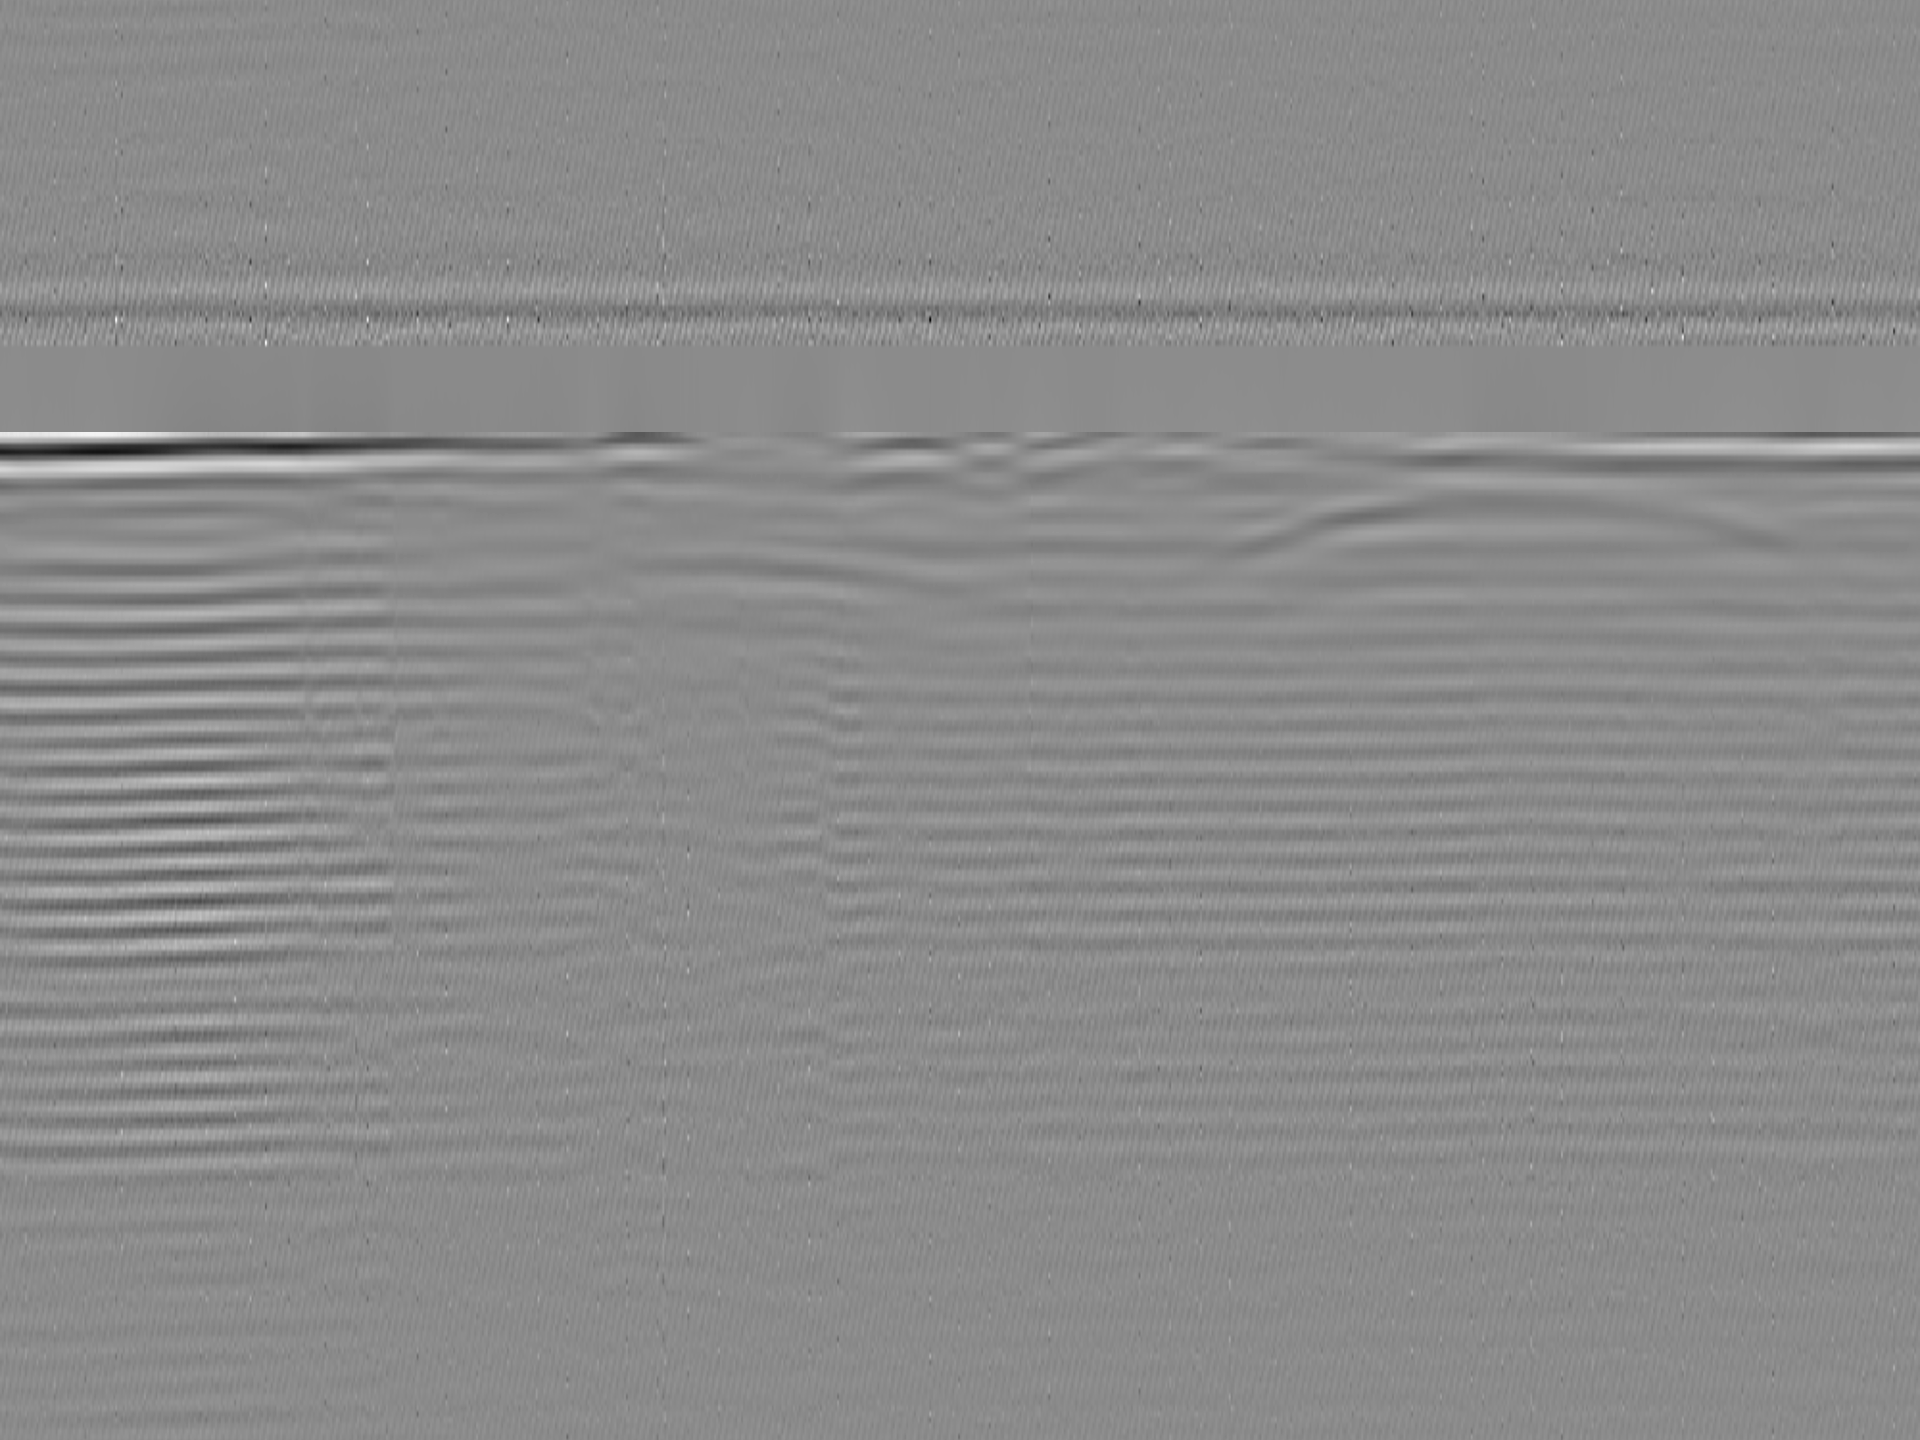Tunnel: (528, 551, 998, 614)
